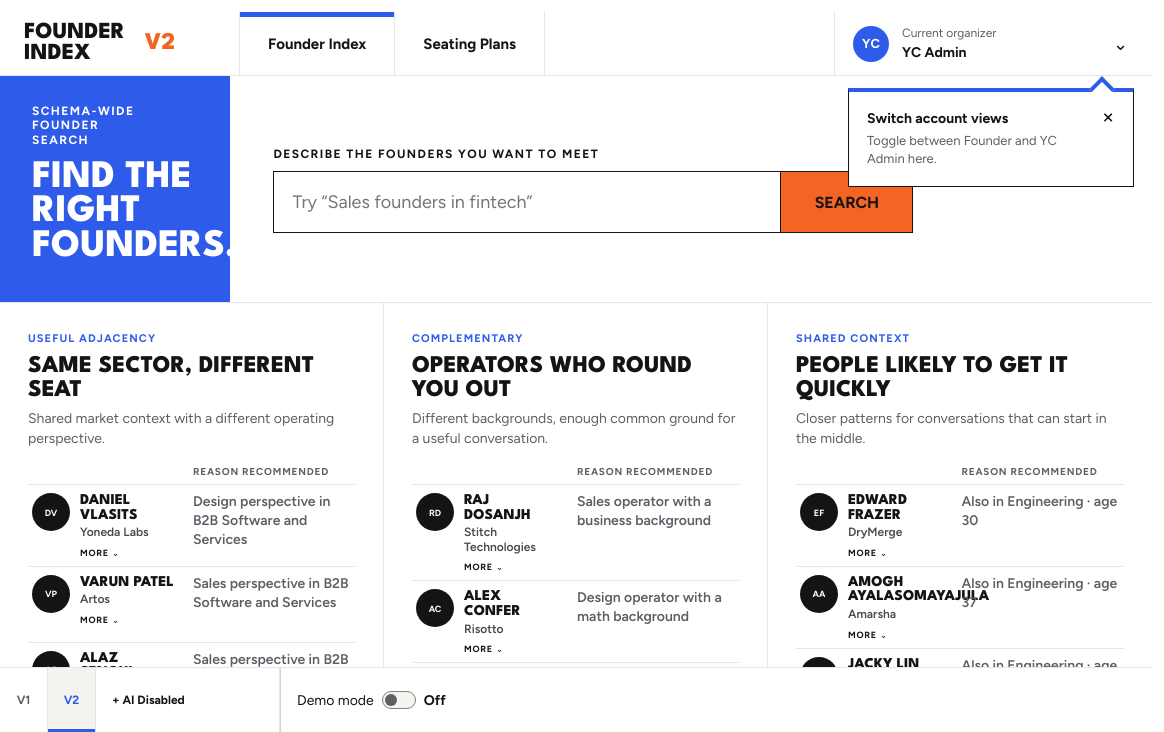
Test: SearchPage no-results recovery › returns to discovery when the final chip is removed instead of showing every founder
Step 1. Type "company Lantern" into the field labelled "Describe the founders you want to meet" → (527, 202), box [274,172,780,232]
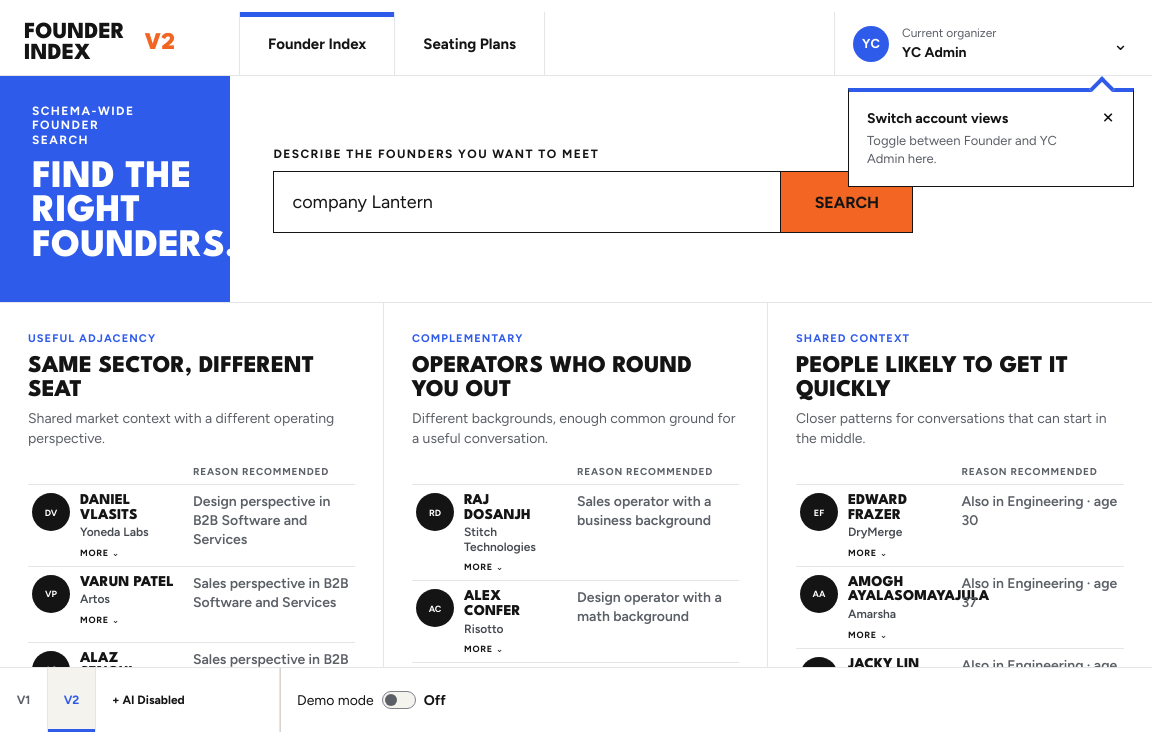
Step 2. Click the button "Search" → (846, 202), box [780,172,912,232]
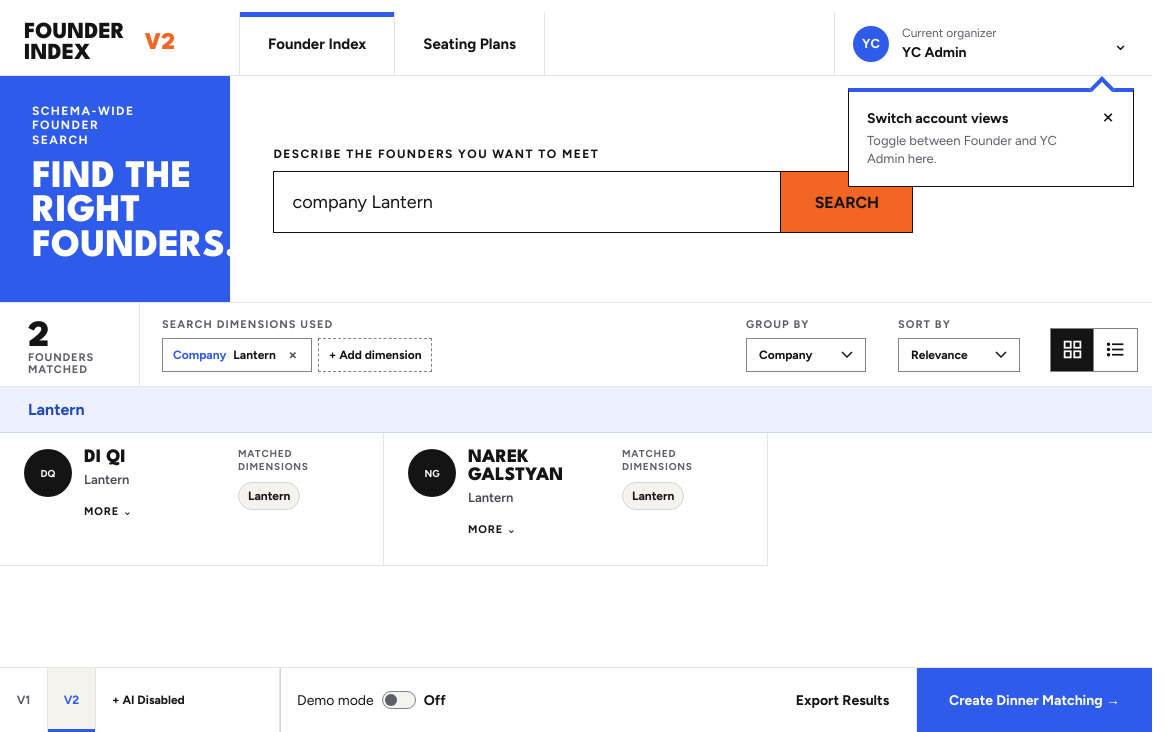
Step 3. Click the button named "Remove Company dimension" → (293, 354), box [283,342,303,366]
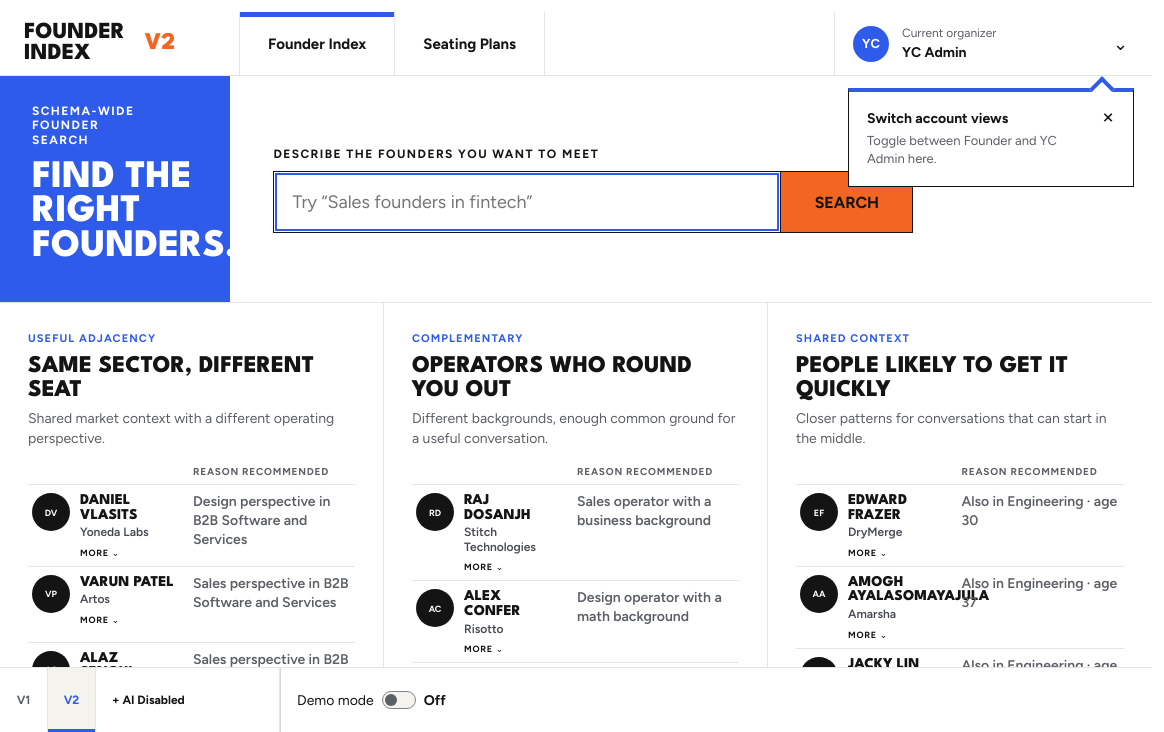
Expected: the heading "Same sector, different seat" is shown, [28,354,355,402]
Expected: the field labelled "Describe the founders you want to meet" is empty
Expected: the text with test id "result-count" is gone
Step 4. Type "leonard" into the field labelled "Describe the founders you want to meet" → (527, 202), box [274,172,780,232]
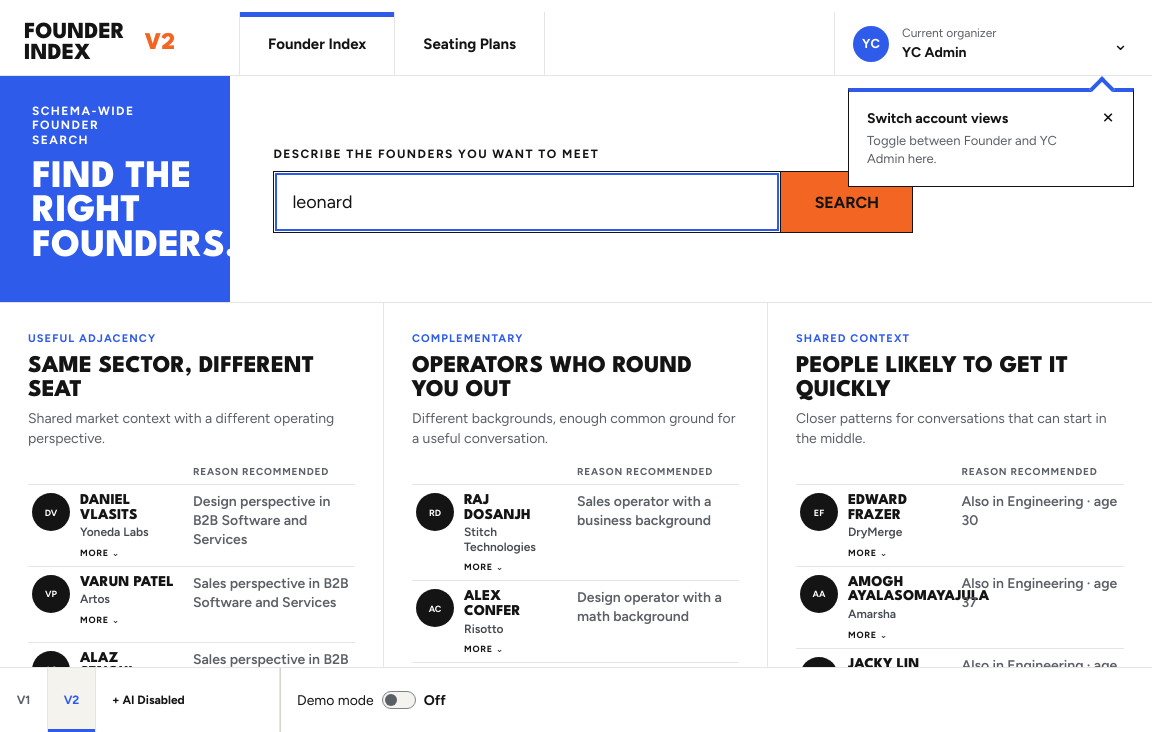
Step 5. Click the button "Search" → (846, 202), box [780,172,912,232]
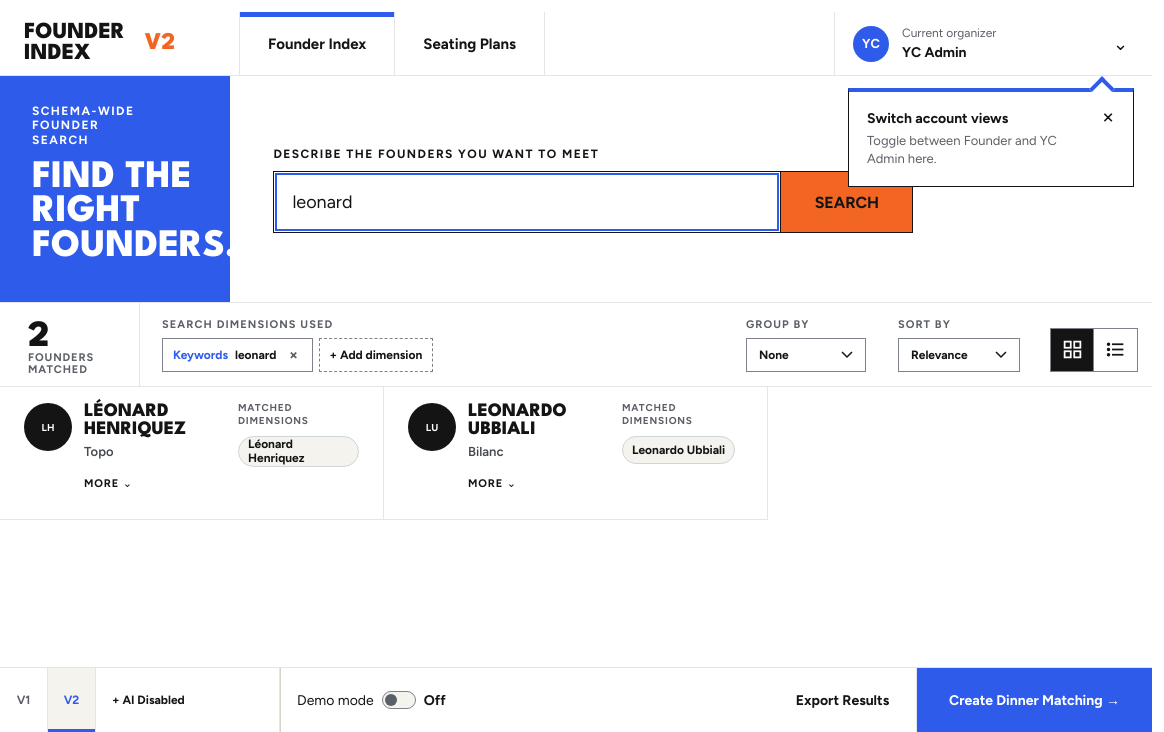
Expected: the list item with test id "dimension-keywords" shows "Keywords leonard", [162,338,312,372]
Step 6. Click the button named "Remove Keywords dimension" → (294, 354), box [284,342,304,366]
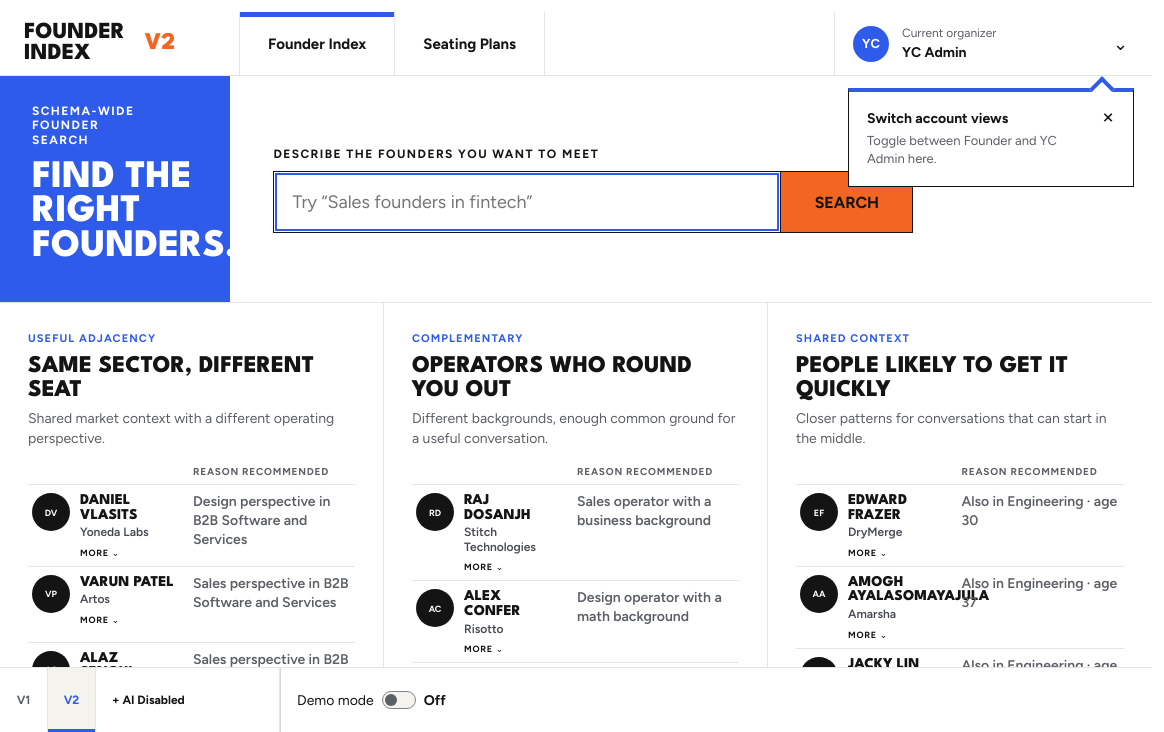
Expected: the heading "Same sector, different seat" is shown, [28,354,355,402]
Expected: the field labelled "Describe the founders you want to meet" is empty, [274,172,780,232]
Expected: the text with test id "result-count" is gone
